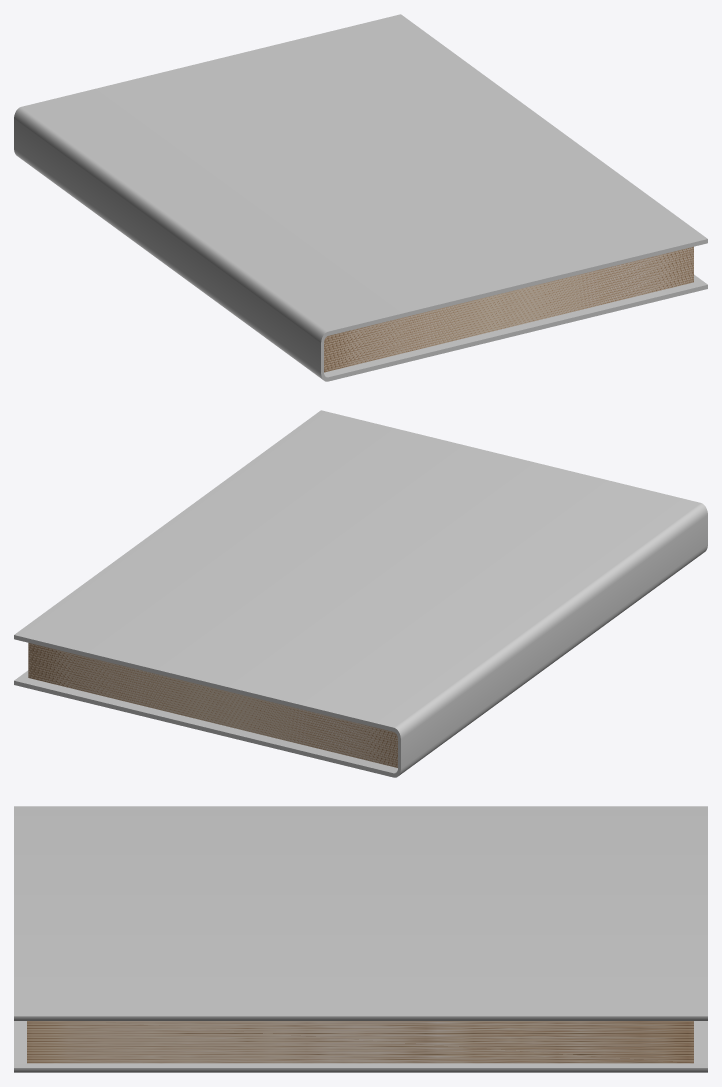
The model's file is Buch.FBX.
The picture shows the model from 3 angles, top to bottom: view 1: azimuth 30°, elevation 25°; view 2: azimuth 150°, elevation 25°; view 3: azimuth 270°, elevation 25°; orthographic projection. The views are drawn at different scales.
Visible parts, largest first — view 1: Rectangle001, Rectangle002; view 2: Rectangle001, Rectangle002; view 3: Rectangle001, Rectangle002.
Part boxes in pixels (x1,y1,x2,y2): Rectangle001: [14, 14, 707, 381]; Rectangle002: [324, 246, 693, 372]; Rectangle001: [14, 410, 707, 777]; Rectangle002: [28, 643, 397, 767]; Rectangle001: [14, 806, 707, 1072]; Rectangle002: [27, 1021, 693, 1063].
Size of the model in its own units: 106 by 13.06 by 145.
